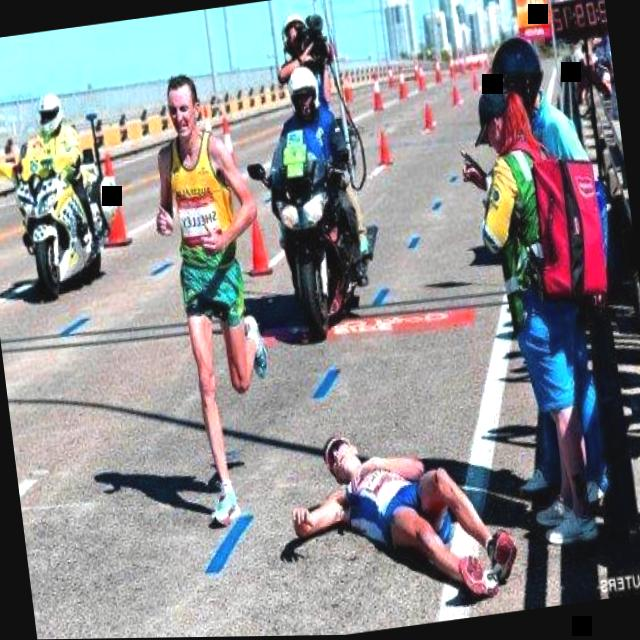Fall-Detected: (271, 391, 534, 627)
